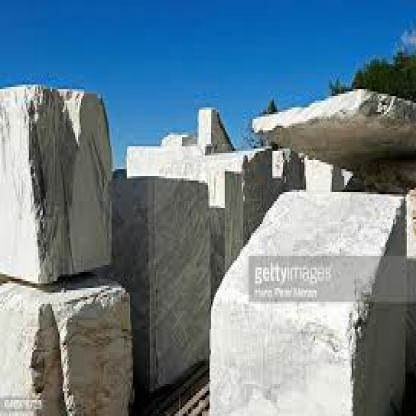Metamorphic_Marble: (202, 174, 407, 414), (0, 73, 118, 286), (0, 270, 138, 414), (248, 91, 414, 158)
